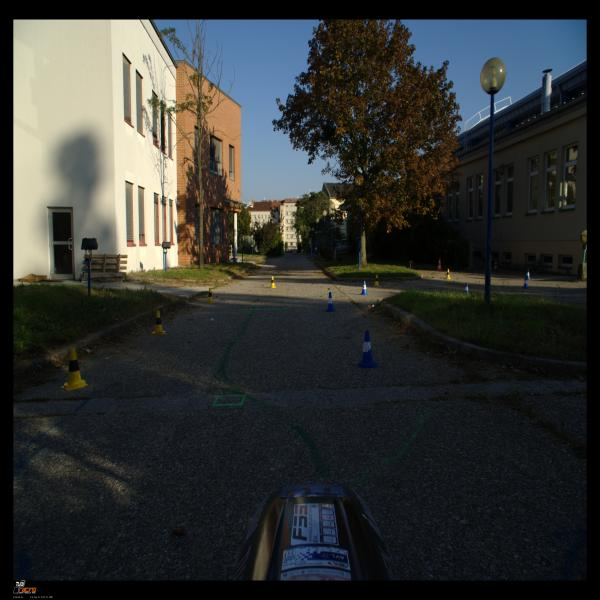blue_cone: (358, 330, 377, 368), (324, 292, 337, 312), (361, 280, 368, 295), (522, 277, 529, 289), (526, 270, 531, 280), (464, 283, 468, 294)
large_orange_cone: (492, 259, 498, 272), (437, 258, 442, 271)
yellow_cone: (61, 347, 88, 391), (152, 310, 167, 335), (205, 288, 216, 304), (270, 276, 276, 288), (374, 275, 380, 286), (445, 269, 451, 279)
